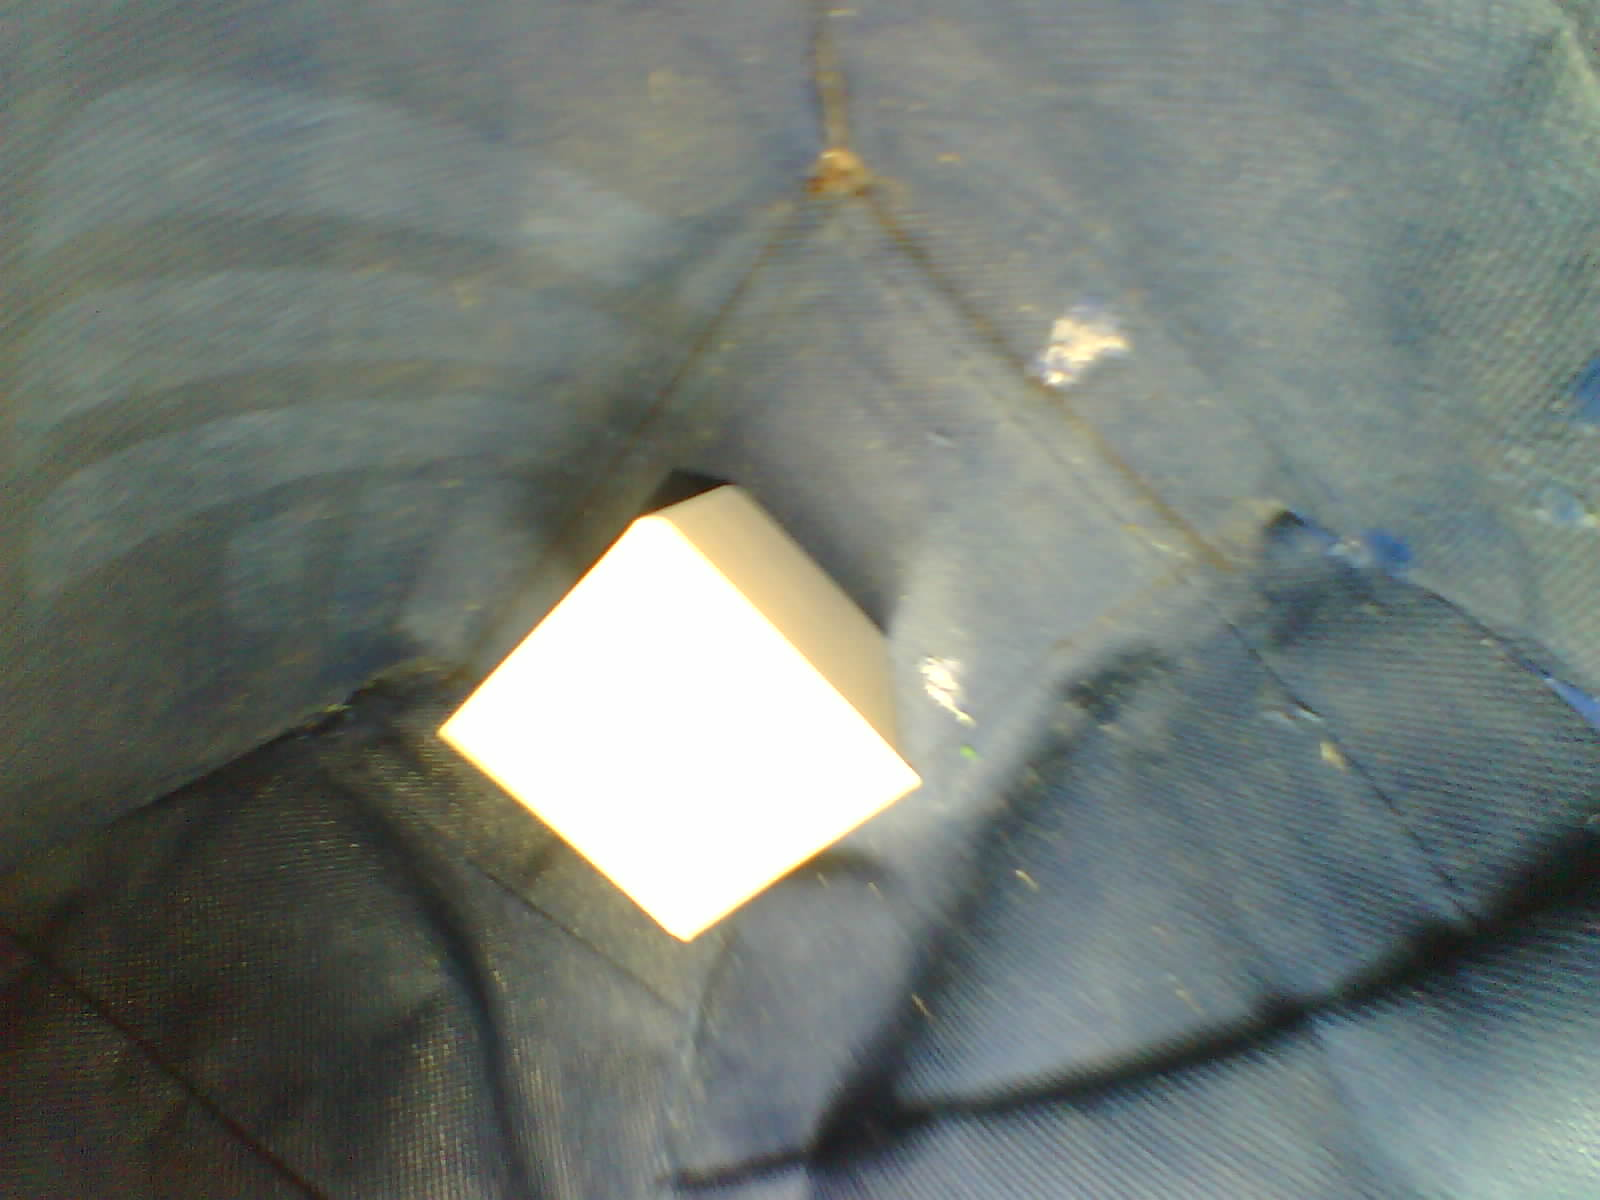cube-hard: (422, 459, 937, 957)
